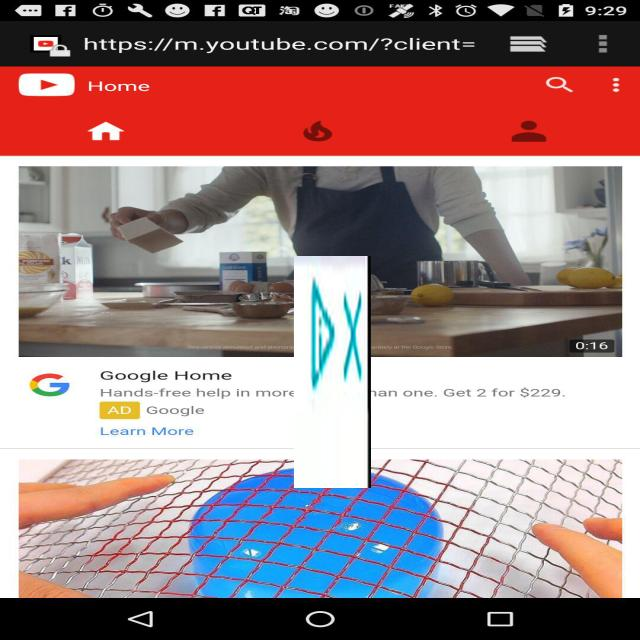sneaking: (294, 256, 371, 488)
